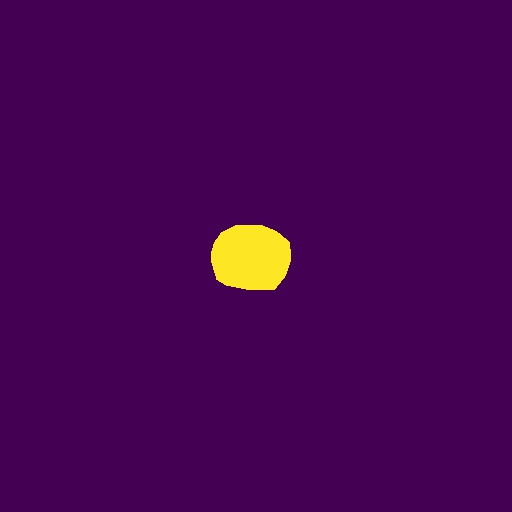Pituirity_tumour: (211, 225, 291, 290)
